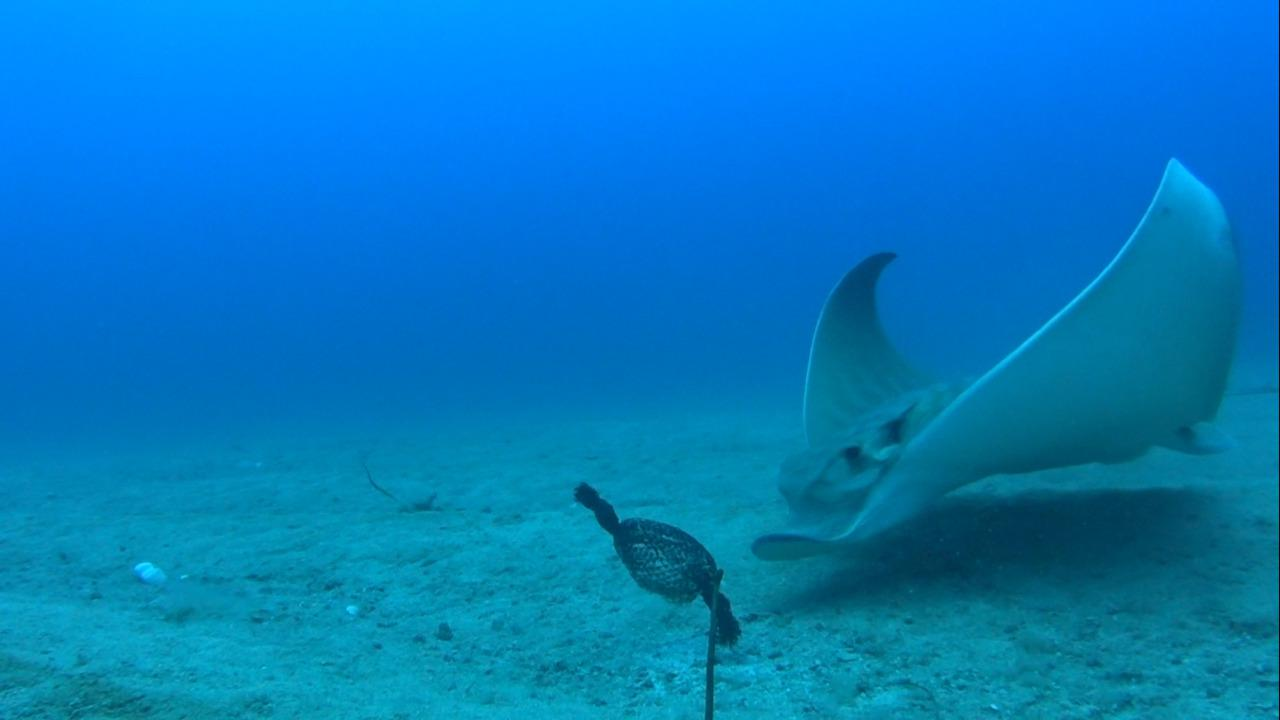myliobatis: (755, 148, 1279, 563)
